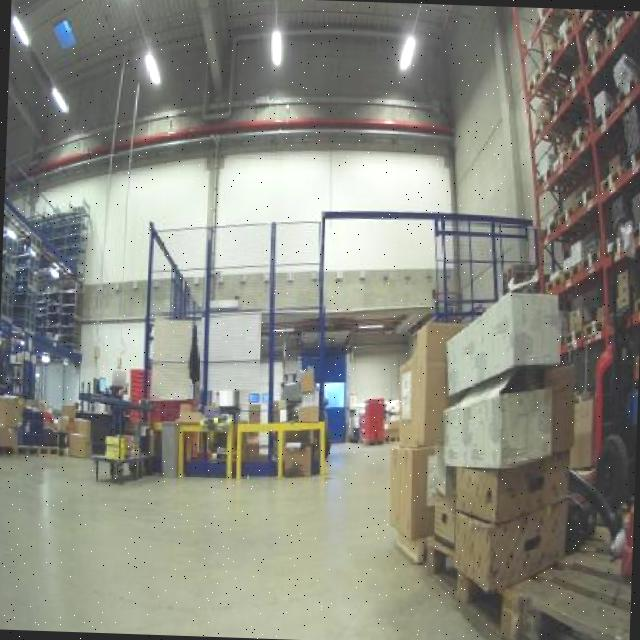pallet: (422, 536, 530, 640), (5, 440, 62, 463)
